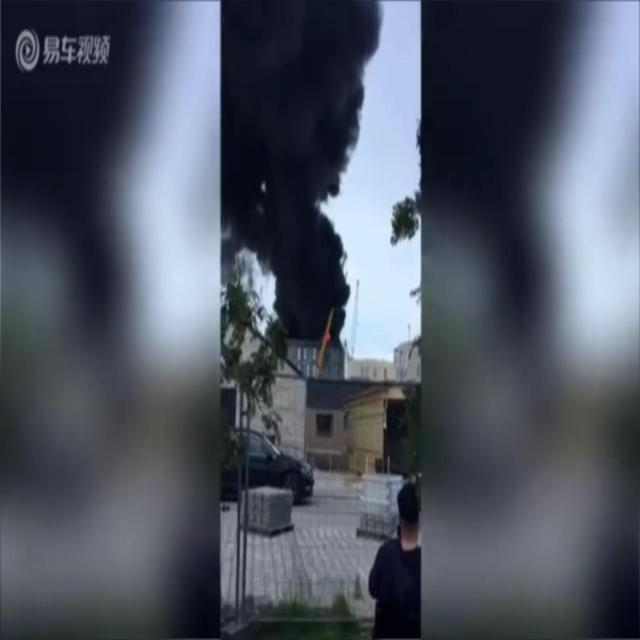fire: (324, 328, 332, 344)
smoke: (225, 2, 382, 344)
